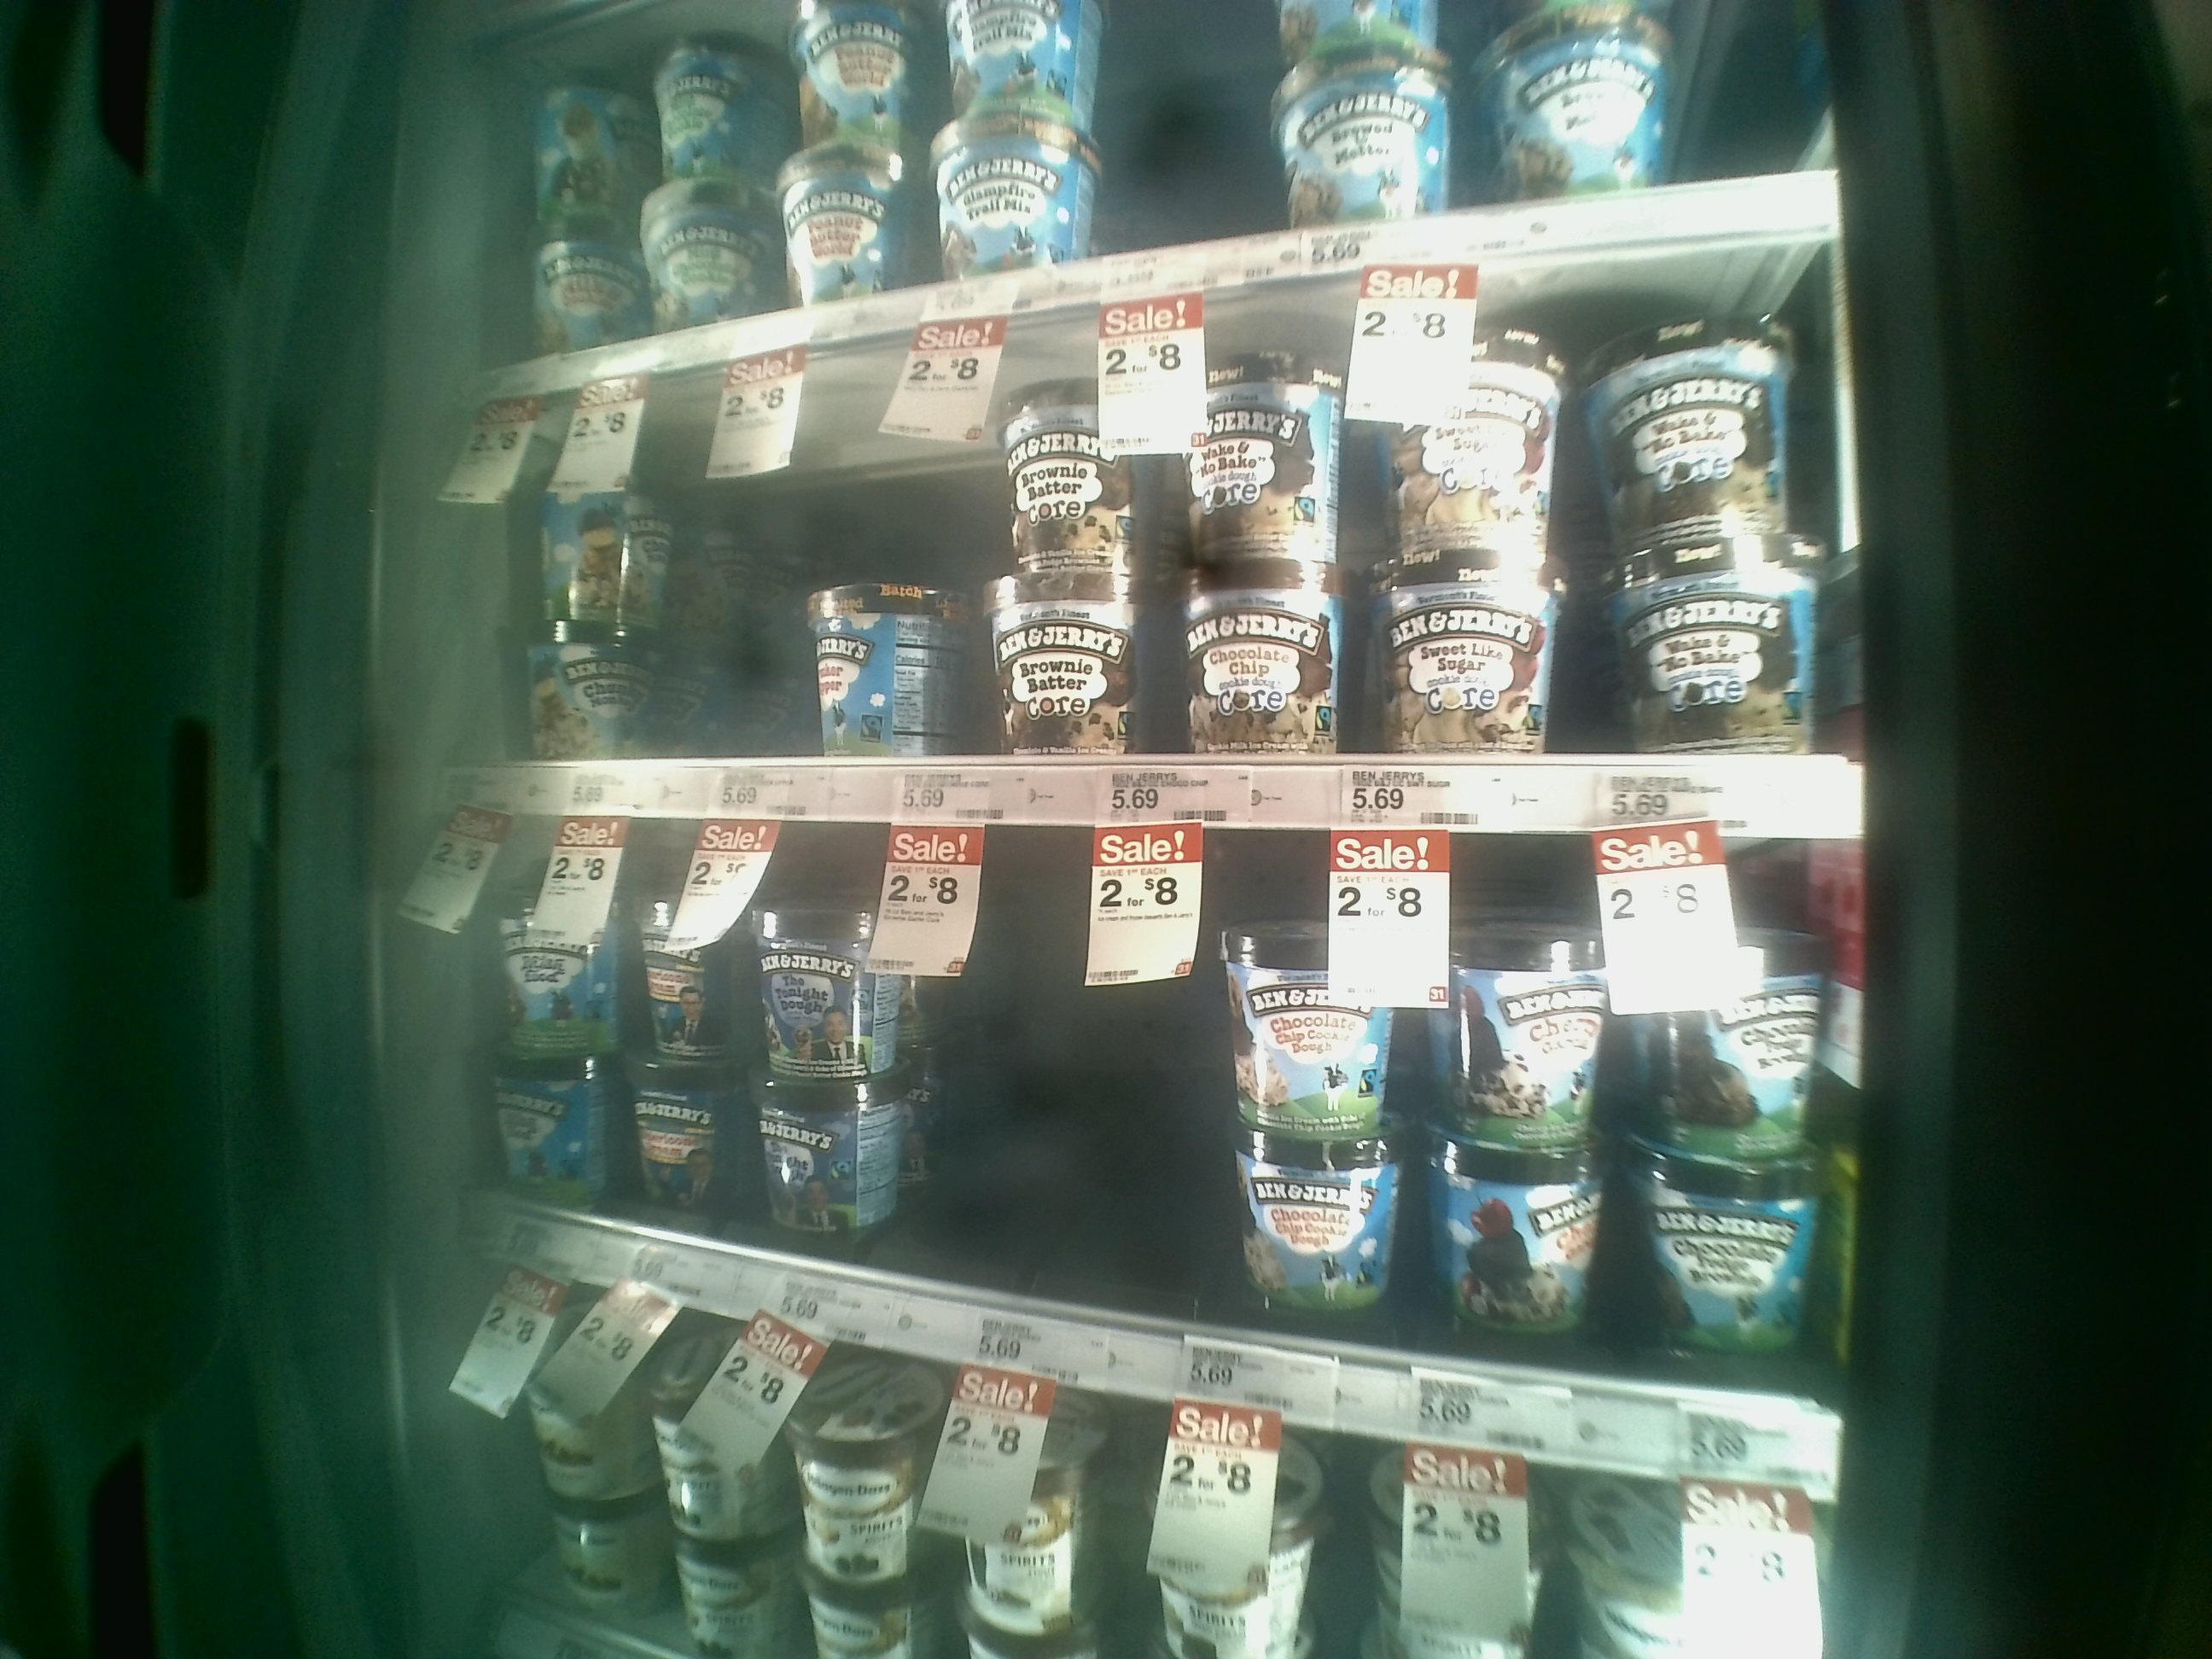shelf: (474, 817, 1871, 1504), (472, 251, 1867, 836)
